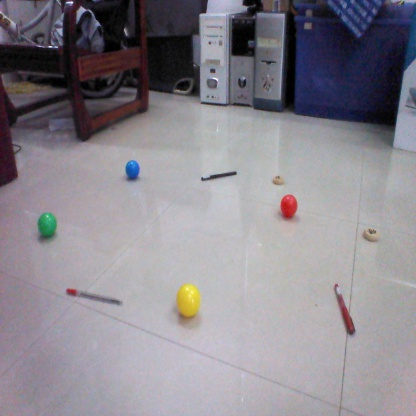ball: (175, 287, 204, 317), (280, 193, 303, 218), (37, 212, 58, 238), (125, 160, 143, 177)
chess: (363, 227, 384, 241), (272, 174, 283, 185)
pen: (331, 284, 358, 335), (63, 285, 124, 307), (200, 169, 235, 183)
